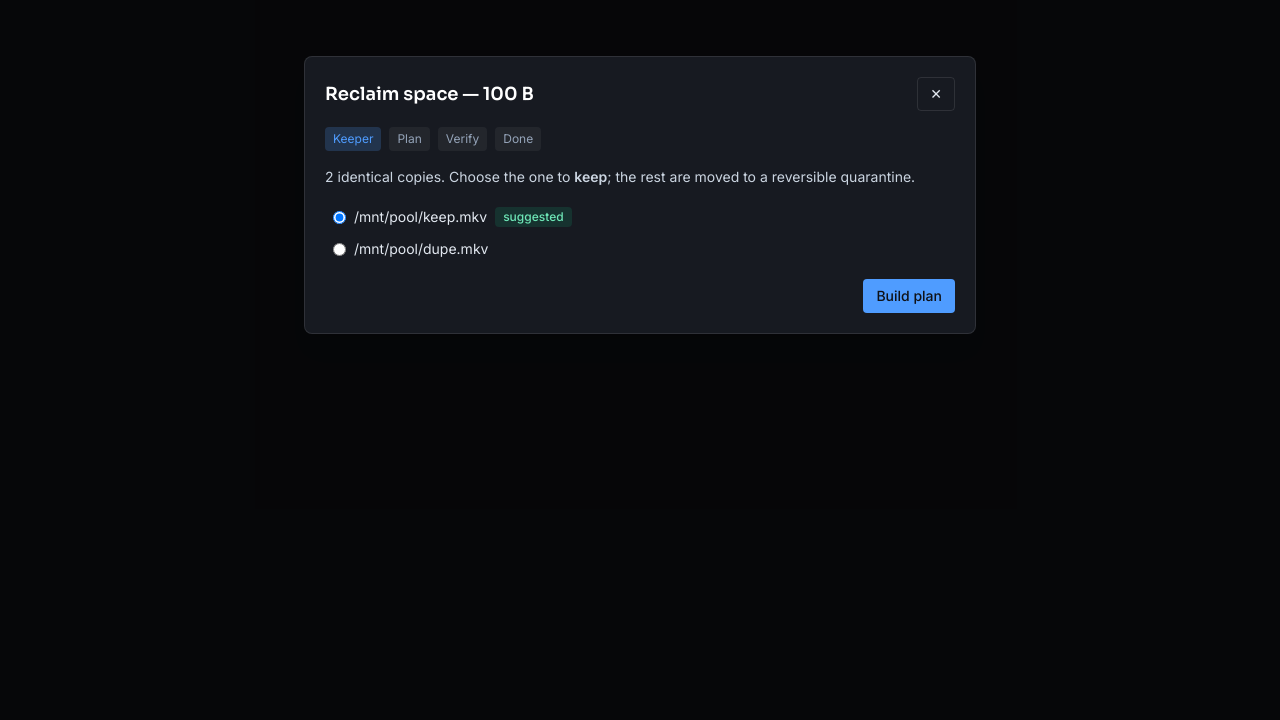
Scenario: RemediationWizard › shows the default-OFF gate message when the build is refused (403)
Step 1. Click the button "Build plan" → [909, 296], box x1=863 y1=279 x2=955 y2=313
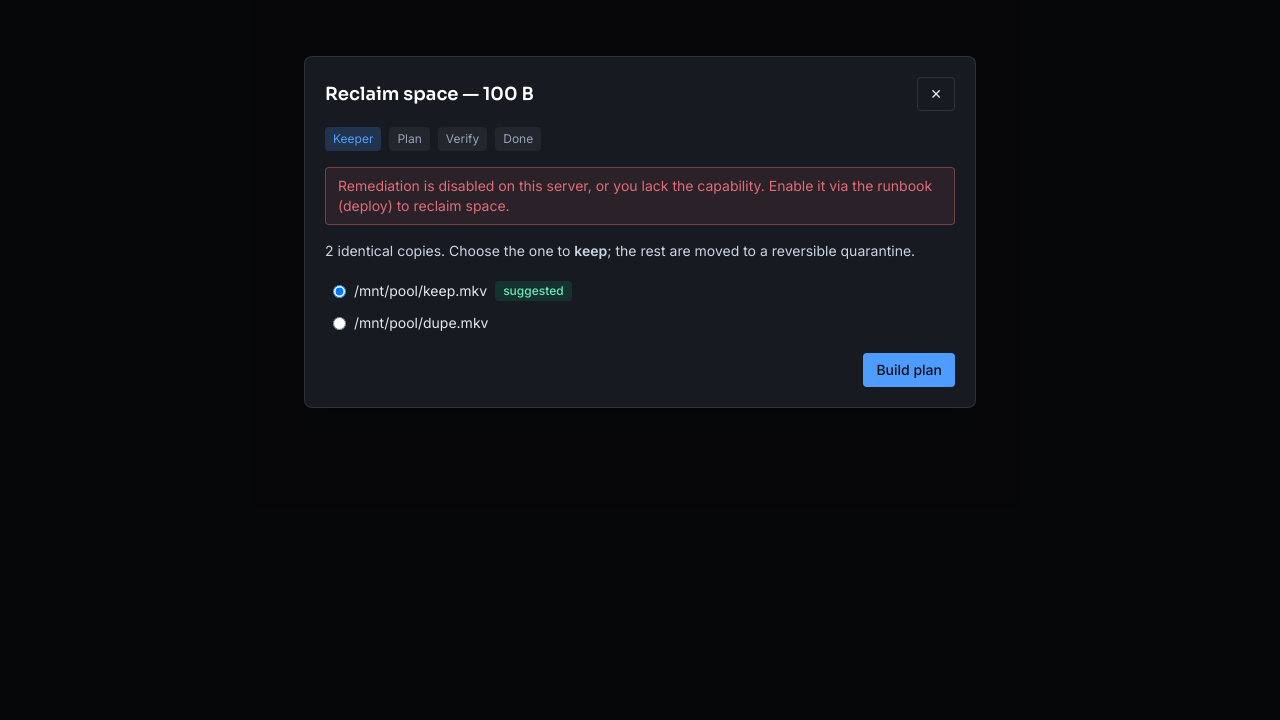
Expected: the message shows "Remediation is disabled on this server", x1=338 y1=177 x2=932 y2=214
